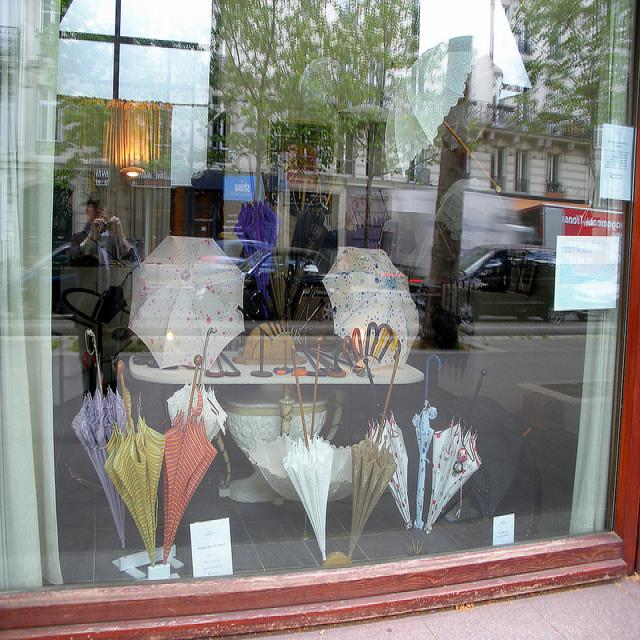Vehicle: (414, 244, 565, 326), (235, 246, 334, 321)
